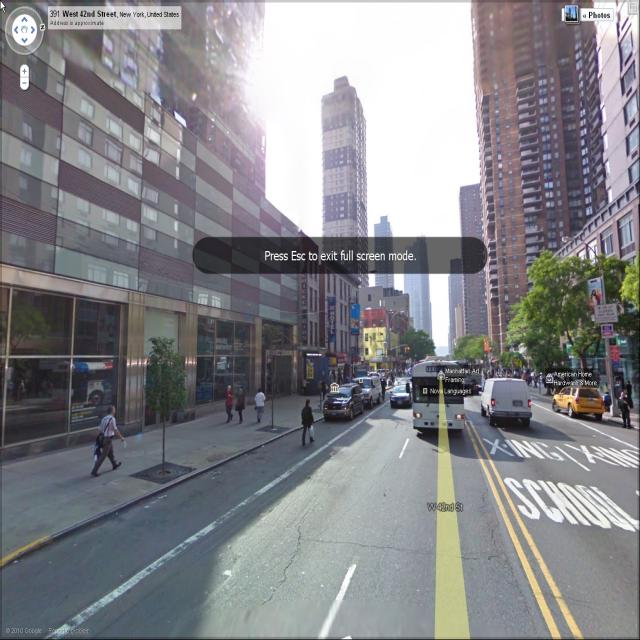b_1: (14, 1, 307, 372), (473, 11, 627, 239), (314, 70, 372, 282), (460, 176, 492, 359), (405, 232, 444, 364), (372, 208, 404, 310), (452, 252, 467, 366)
b_2: (505, 215, 638, 404)
